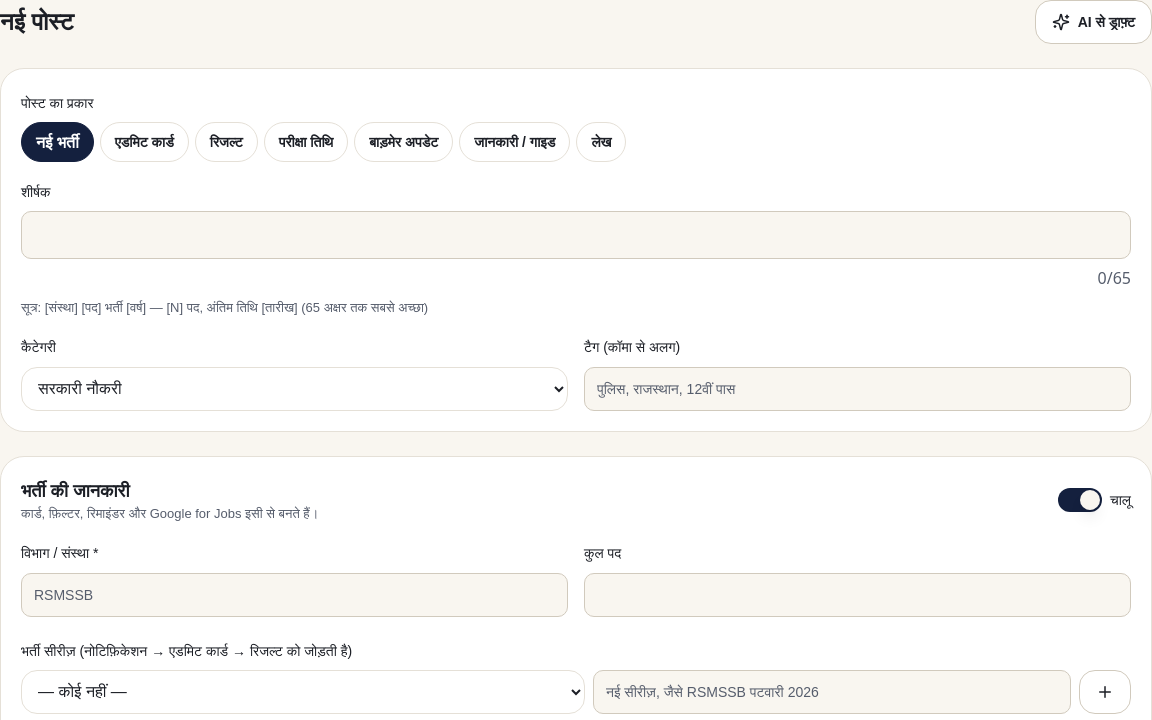
Test case: Post editor › AI draft fills title, content and job fields
Click the button "AI से ड्राफ़्ट" at (1093, 22), box x1=1035 y1=0 x2=1151 y2=44
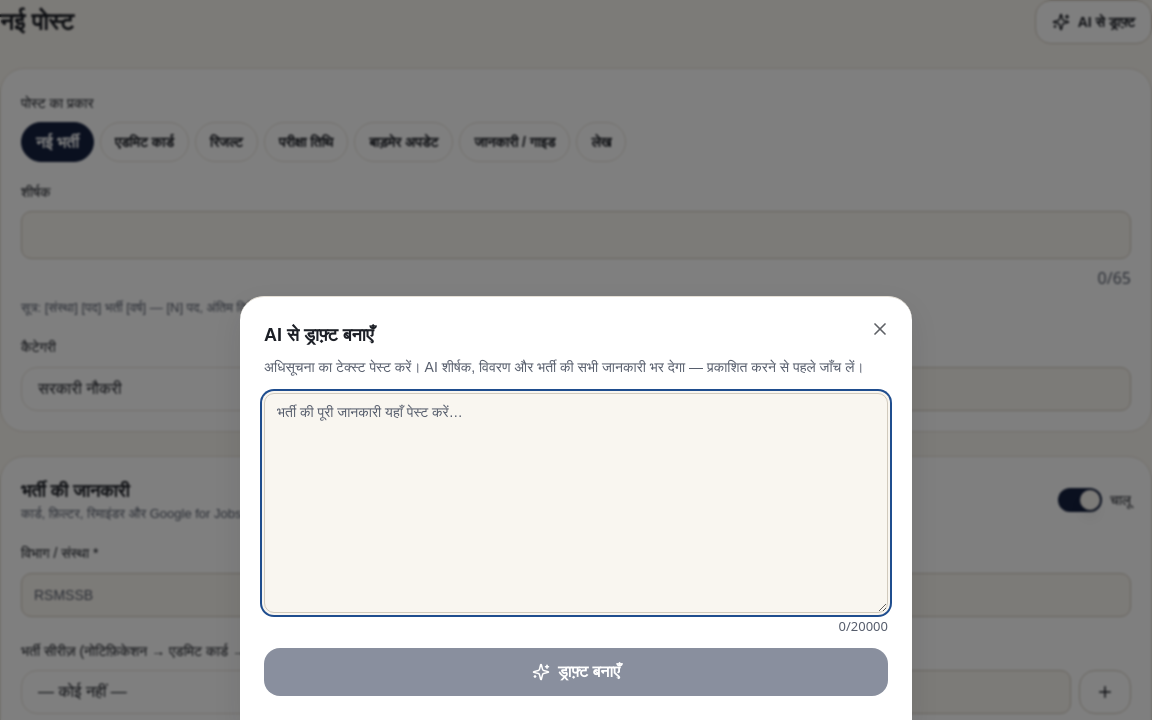
Result: the button "ड्राफ़्ट बनाएँ" is disabled at x1=264 y1=648 x2=888 y2=696
Type "RPSC notification text" into the text box with placeholder "भर्ती की पूरी जानकारी यहाँ पेस्ट करें…" at (576, 503), box x1=264 y1=393 x2=888 y2=613
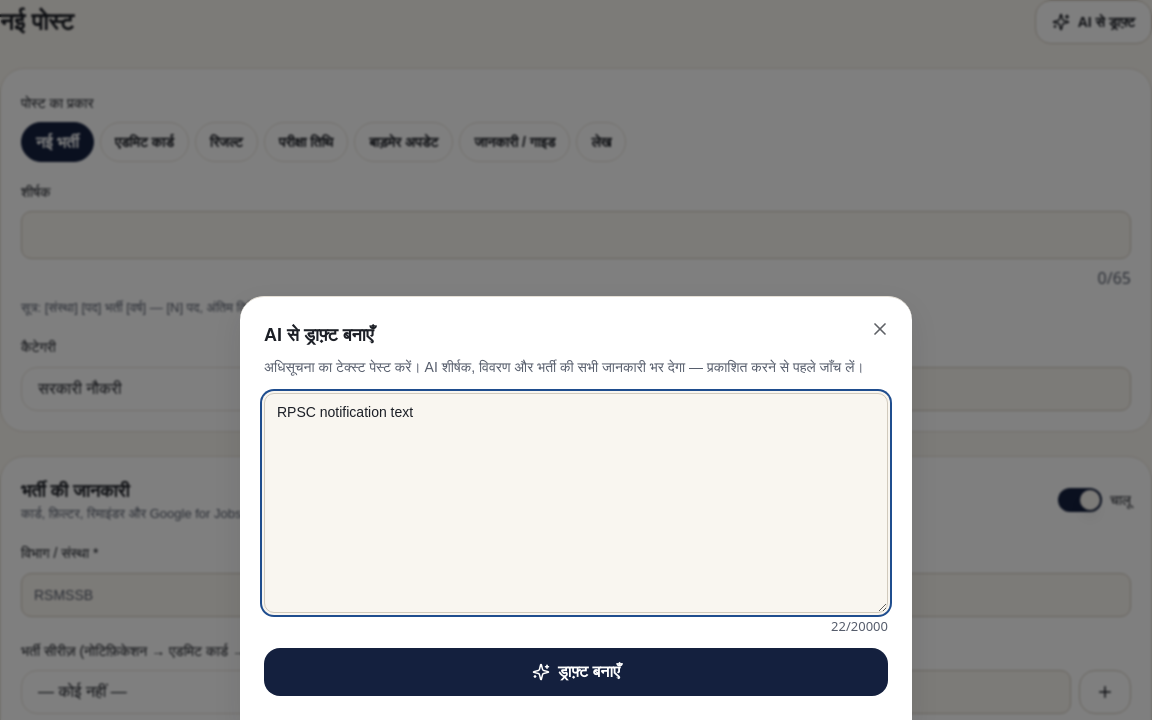
Click the button "ड्राफ़्ट बनाएँ" at (576, 672), box x1=264 y1=648 x2=888 y2=696
(page scrolled)
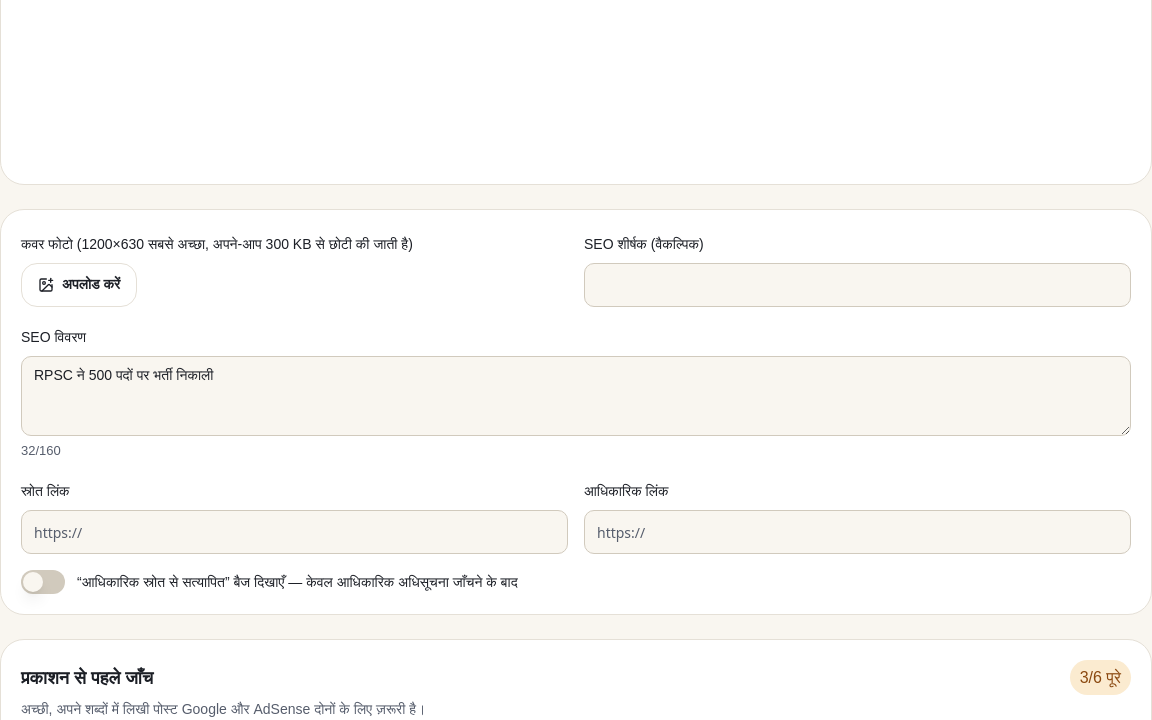
Result: the text box labelled "SEO विवरण" holds "RPSC ने 500 पदों पर भर्ती निकाली" at x1=21 y1=356 x2=1131 y2=436
